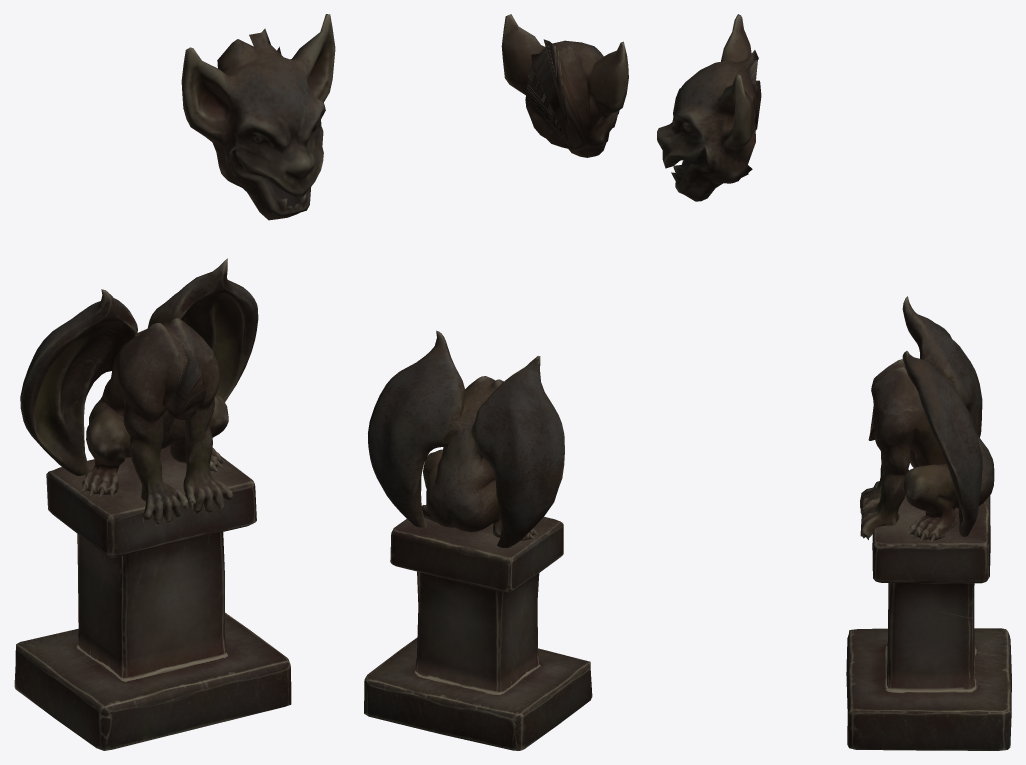
The model's file is gargoyleBody.glb.
3 renders of one model, left to right at view 1: azimuth 30°, elevation 25°; view 2: azimuth 150°, elevation 25°; view 3: azimuth 270°, elevation 25°, orthographic. The views are drawn at different scales.
Visible parts, largest first — view 1: gargoyle_body, gargoyle_head; view 2: gargoyle_body, gargoyle_head; view 3: gargoyle_body, gargoyle_head.
Boxes of the visible parts, x1=… form: gargoyle_body: x1=14, y1=258, x2=291, y2=750; gargoyle_head: x1=181, y1=14, x2=335, y2=220; gargoyle_body: x1=364, y1=330, x2=592, y2=750; gargoyle_head: x1=501, y1=14, x2=628, y2=157; gargoyle_body: x1=846, y1=296, x2=1011, y2=750; gargoyle_head: x1=657, y1=14, x2=761, y2=201.
Bounding box in the file's own units: 54.53 × 166 × 80.07.
Materials: 1 (1 with a texture image).
